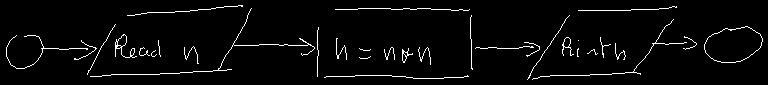arrow: (234, 38, 314, 55), (41, 40, 96, 59), (475, 42, 539, 56), (652, 36, 696, 49)
connection: (704, 26, 762, 62), (6, 35, 43, 68)
data: (87, 5, 251, 76), (527, 6, 676, 79)
process: (317, 8, 472, 78)
text: (336, 38, 430, 64), (115, 34, 198, 63), (562, 37, 625, 59)
